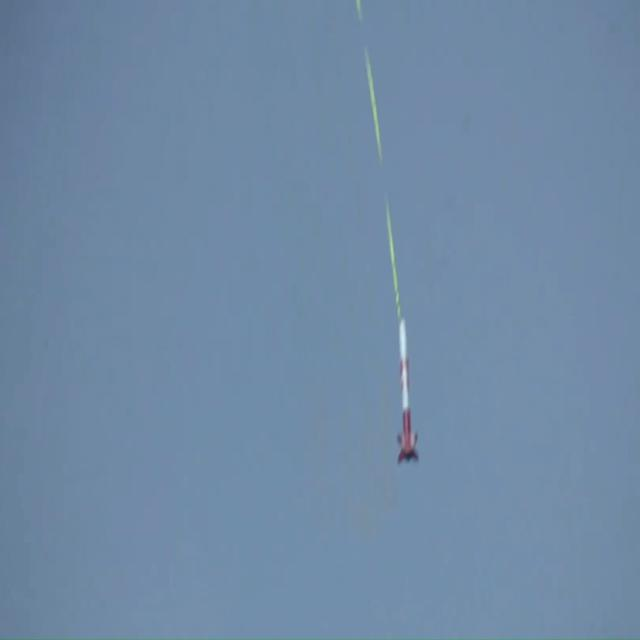Rocket: (396, 320, 419, 463)
